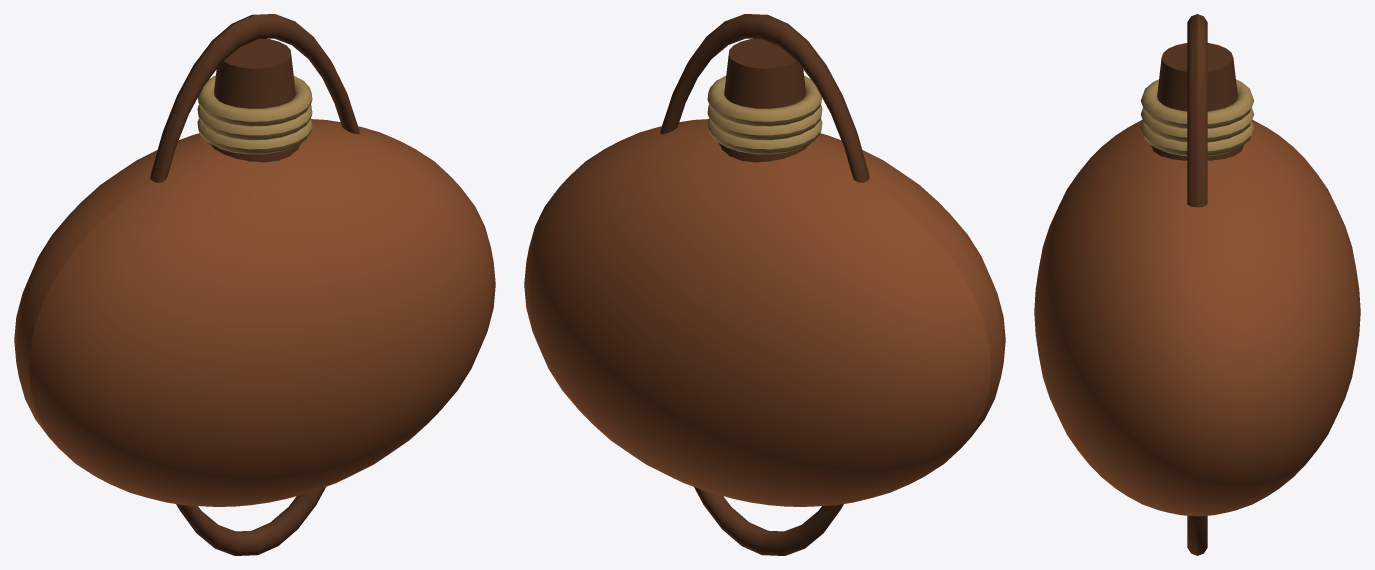
The picture shows the model from 3 angles, left to right: view 1: azimuth 30°, elevation 25°; view 2: azimuth 150°, elevation 25°; view 3: azimuth 270°, elevation 25°; orthographic projection.
Parts seen in each view (by area): view 1: OBJ-006 — DEMO NON_VALIDE; view 2: OBJ-006 — DEMO NON_VALIDE; view 3: OBJ-006 — DEMO NON_VALIDE.
Boxes of the visible parts, x1,y1,x2,y2 form: OBJ-006 — DEMO NON_VALIDE: [14, 14, 495, 555]; OBJ-006 — DEMO NON_VALIDE: [524, 14, 1005, 555]; OBJ-006 — DEMO NON_VALIDE: [1034, 14, 1360, 555].
Size of the model in its own units: 1.75 by 2 by 1.12.
